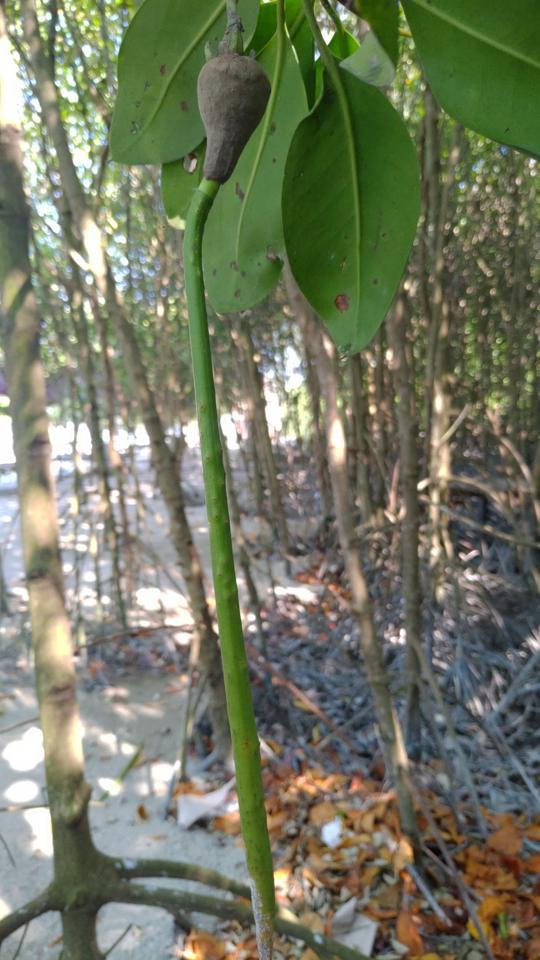setengah matang: (167, 27, 298, 959)
